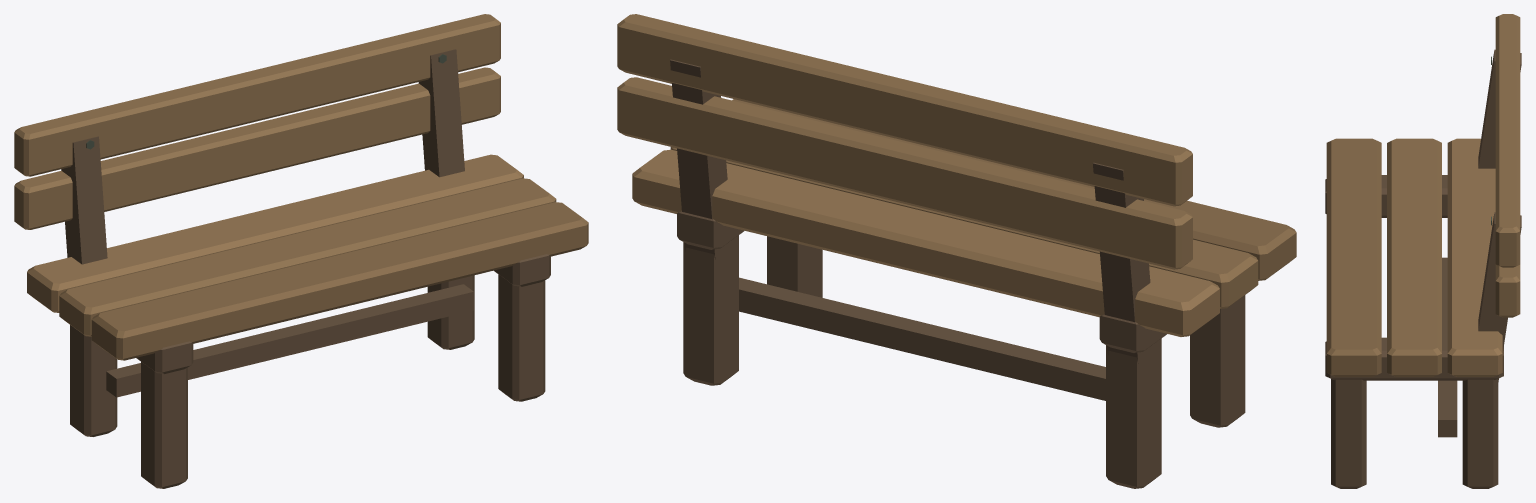
The model's file is lookout_bench.glb.
3 renders of one model, left to right at view 1: azimuth 30°, elevation 25°; view 2: azimuth 150°, elevation 25°; view 3: azimuth 270°, elevation 25°, orthographic. The views are drawn at different scales.
Visible parts, largest first — view 1: geometry; view 2: geometry; view 3: geometry.
Boxes of the visible parts, x1,y1,x2,y2 form: geometry: (14, 14, 588, 488); geometry: (617, 14, 1296, 488); geometry: (1325, 14, 1521, 488).
Size of the model in its own units: 1.87 by 1.13 by 0.7145.
